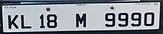character: (7, 13, 18, 29), (75, 12, 86, 28), (46, 13, 57, 28), (104, 12, 115, 27), (117, 12, 128, 27), (143, 11, 154, 26), (20, 14, 31, 28), (130, 12, 141, 26), (38, 13, 45, 29)
